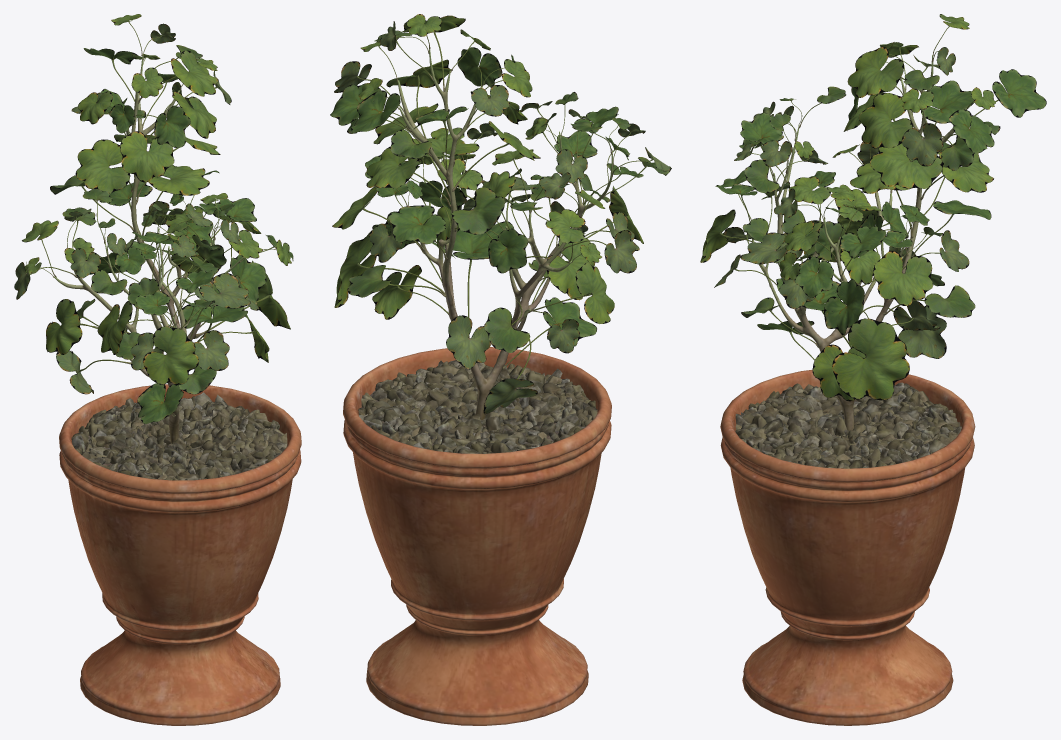
File: potted_plant_01.obj
3 renders of one model, left to right at view 1: azimuth 30°, elevation 25°; view 2: azimuth 150°, elevation 25°; view 3: azimuth 270°, elevation 25°, orthographic. The views are drawn at different scales.
Size of the model in its own units: 0.435 by 0.9898 by 0.4693.
1 material, 1 textured.
